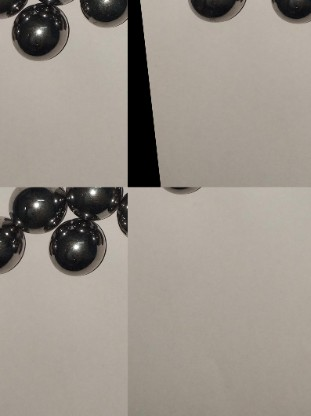ironball: (11, 3, 70, 63), (45, 218, 106, 276), (9, 184, 72, 231), (0, 210, 29, 278), (67, 186, 121, 219), (181, 0, 251, 23), (77, 0, 126, 29), (265, 0, 309, 27)
